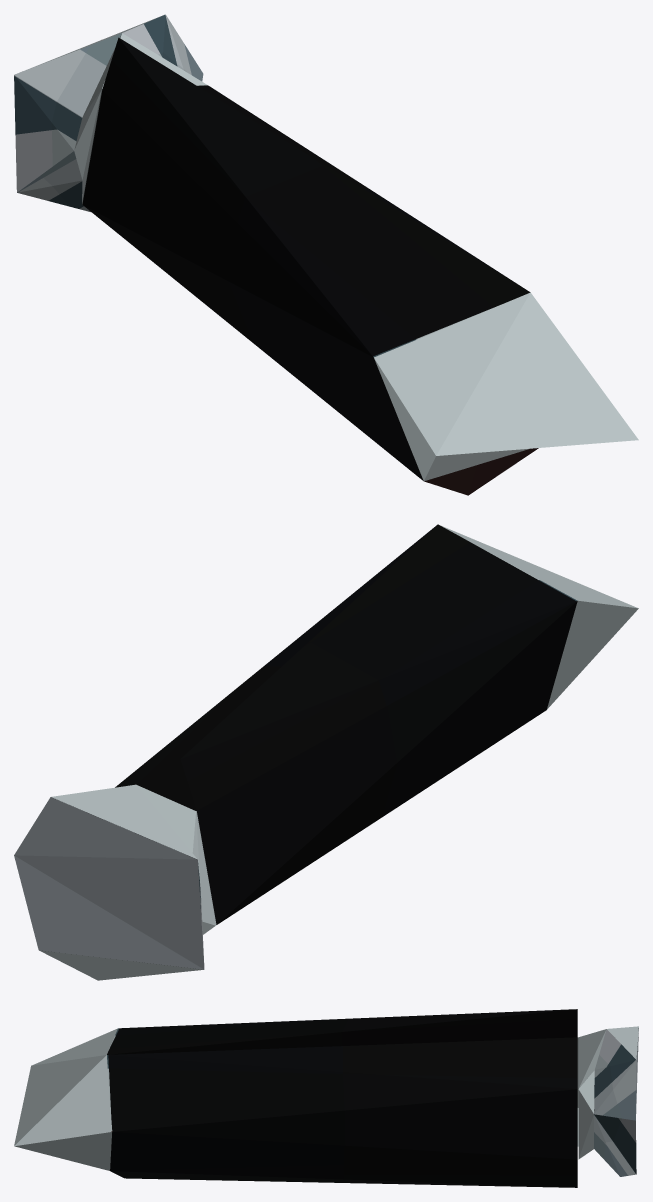
The model's file is xjyz107-geode.glb.
3 renders of one model, top to bottom at view 1: azimuth 30°, elevation 25°; view 2: azimuth 150°, elevation 25°; view 3: azimuth 270°, elevation 25°, orthographic. The views are drawn at different scales.
Visible parts, largest first — view 1: Node; view 2: Node; view 3: Node.
Boxes of the visible parts, x1,y1,x2,y2 form: Node: (14,14,638,495); Node: (14,524,638,980); Node: (14,1009,638,1187).
Bounding box in the file's own units: 0.0618 × 0.068 × 0.2401.
1 material, 1 textured.
